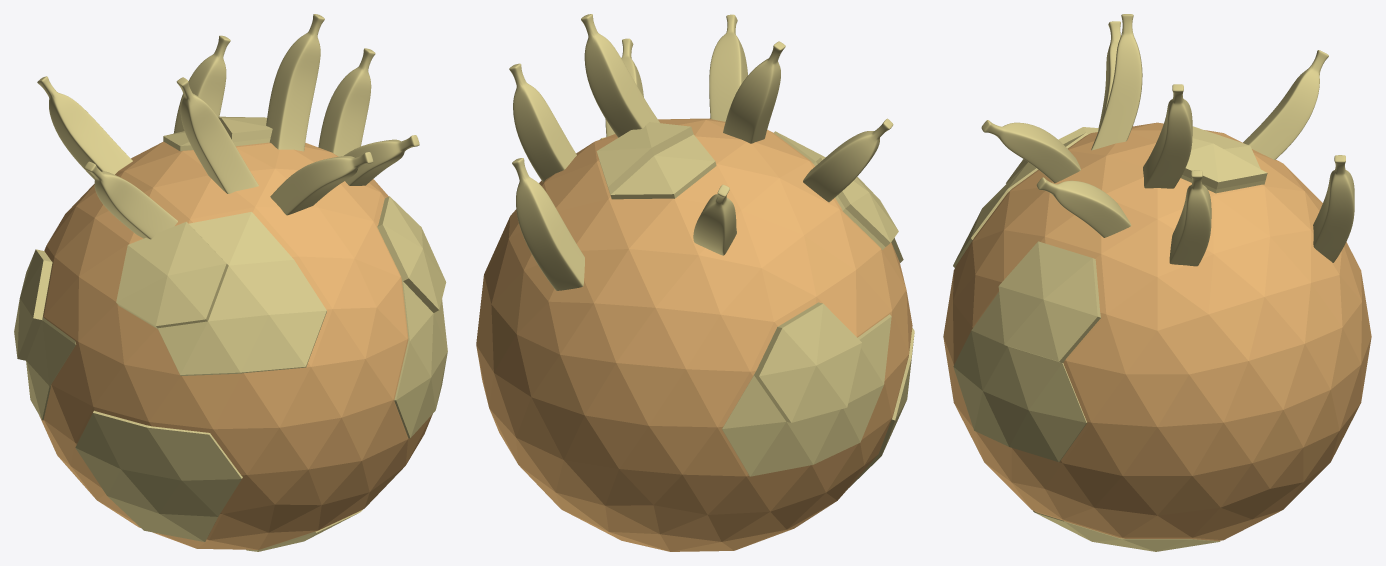
3 views of the same model, side by side, from view 1: azimuth 30°, elevation 25°; view 2: azimuth 150°, elevation 25°; view 3: azimuth 270°, elevation 25° (orthographic). The views are drawn at different scales.
Parts seen in each view (by area): view 1: Icosphere; view 2: Icosphere; view 3: Icosphere.
Part boxes in pixels (bbox=[...]): Icosphere: bbox=[14, 14, 447, 551]; Icosphere: bbox=[476, 14, 914, 551]; Icosphere: bbox=[943, 14, 1371, 551].
Size of the model in its own units: 1001 by 1269 by 999.
